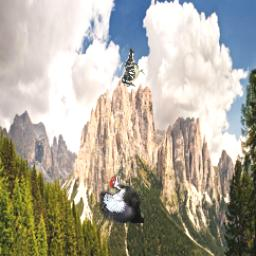Woodpecker: (99, 168, 144, 224), (122, 47, 146, 87)
